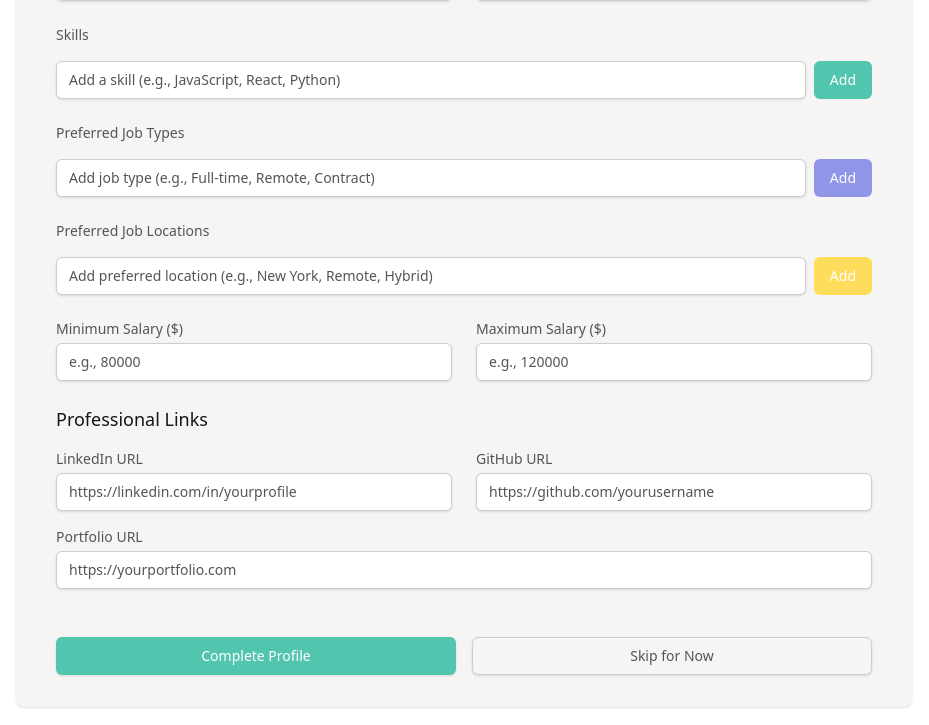
ProfileSetup Component › should show loading state during form submission
The image size is (929, 725).
(page scrolled)
Click the button "Complete Profile" at (256, 656), box top-left (56, 637), bottom-right (456, 675)
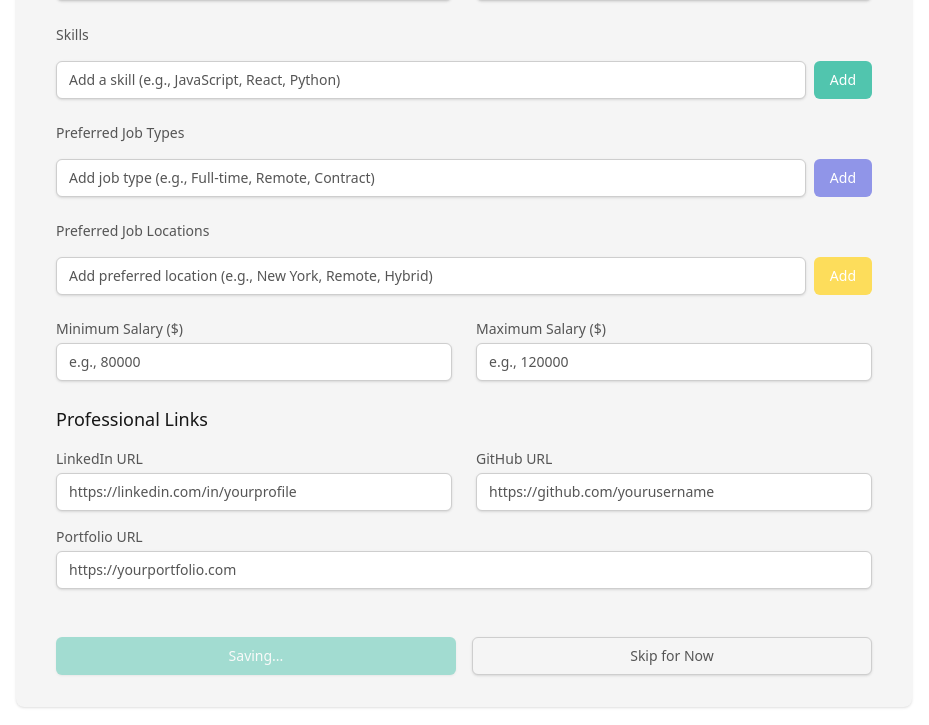
Check: the button "Saving..." is disabled, box top-left (56, 637), bottom-right (456, 675)
